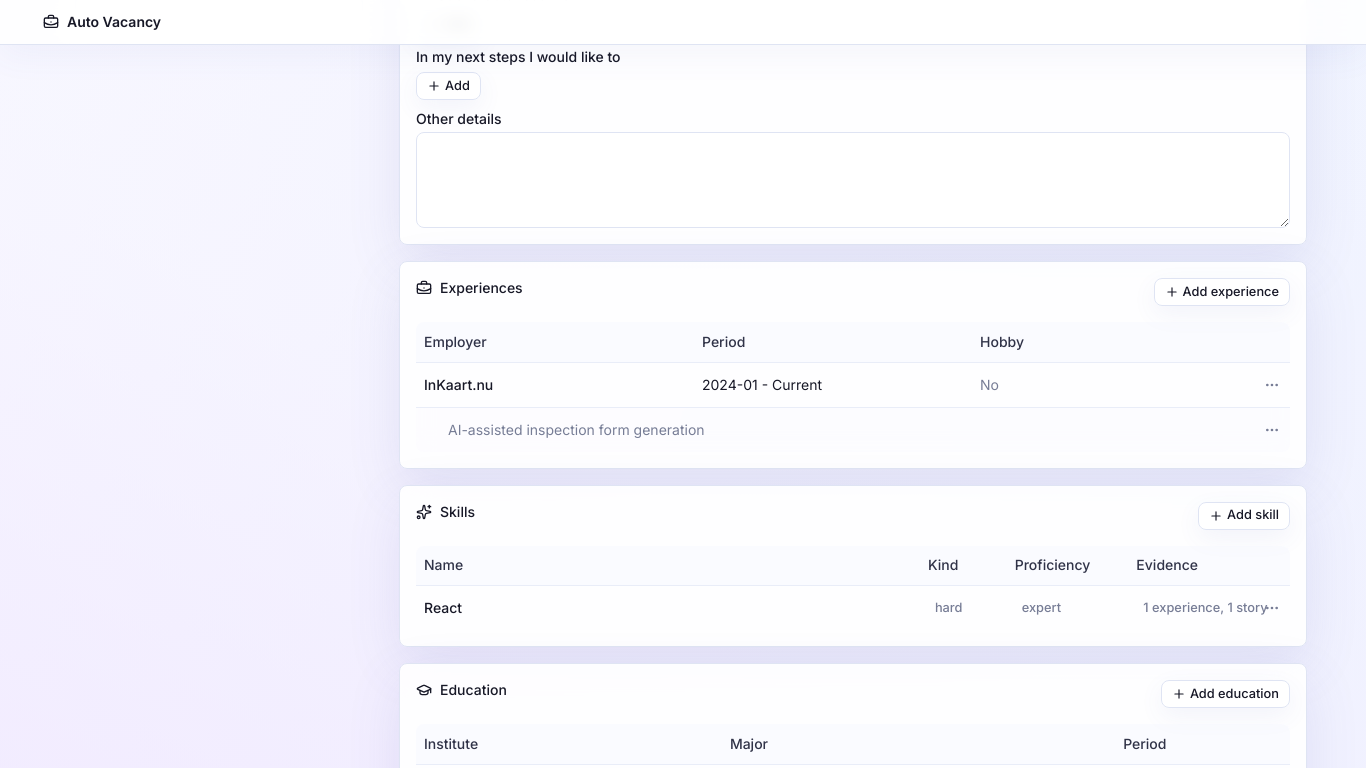
Scenario: ProfileApp › opens edit and add dialogs from experience actions
(page scrolled)
Click the button named "Experience actions" at (1272, 384), box [1258, 370, 1286, 398]
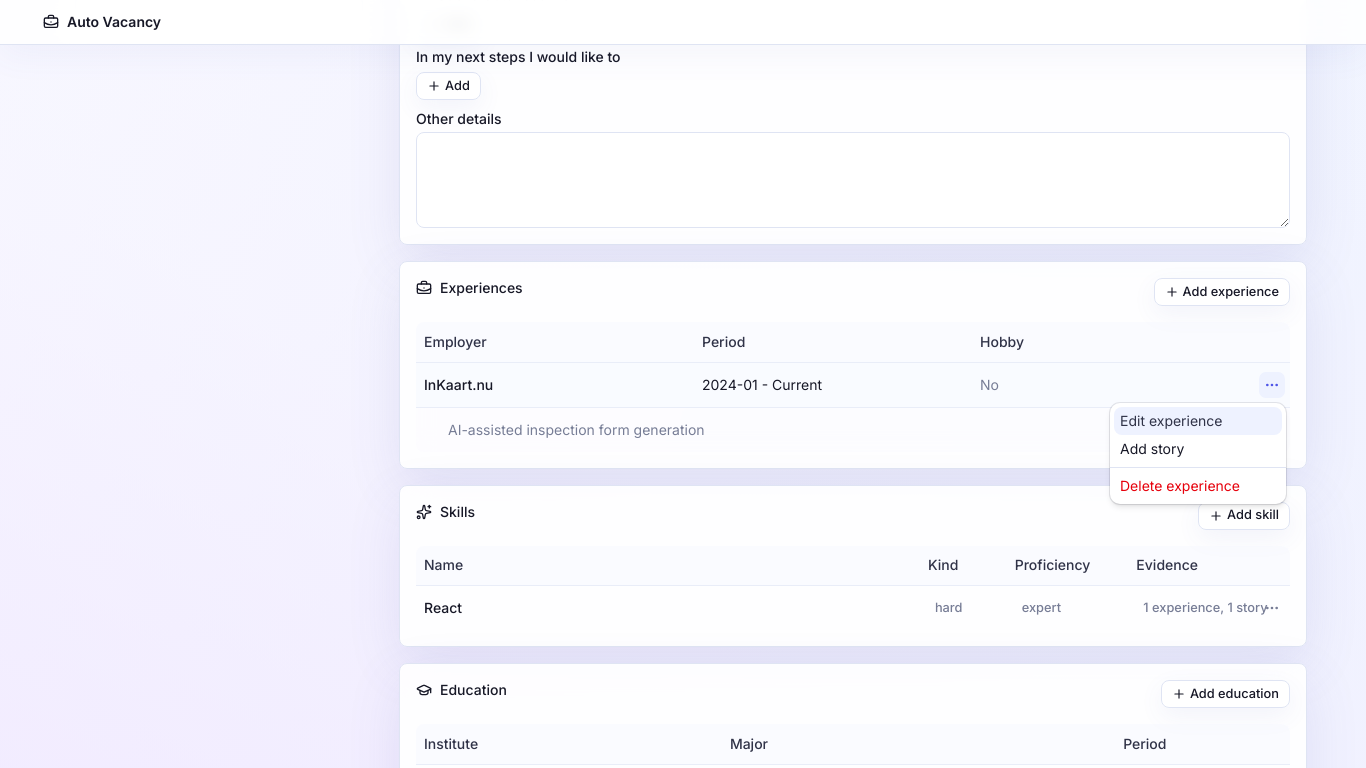
Click the menu item "Edit experience" at (1198, 421), box [1114, 407, 1282, 435]
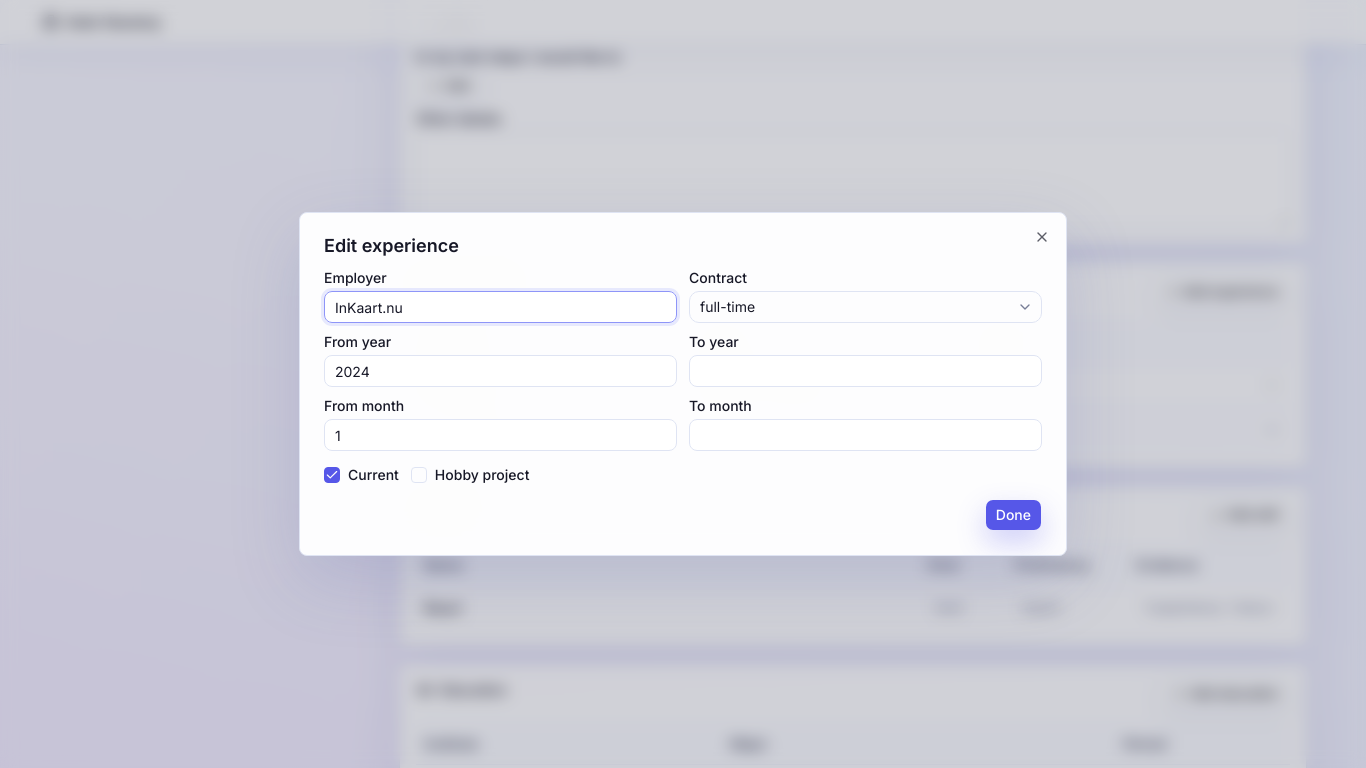
Expected: the heading "Edit experience" is shown, [324, 235, 459, 256]
Click the button "Done" at (1013, 515), box [985, 499, 1042, 531]
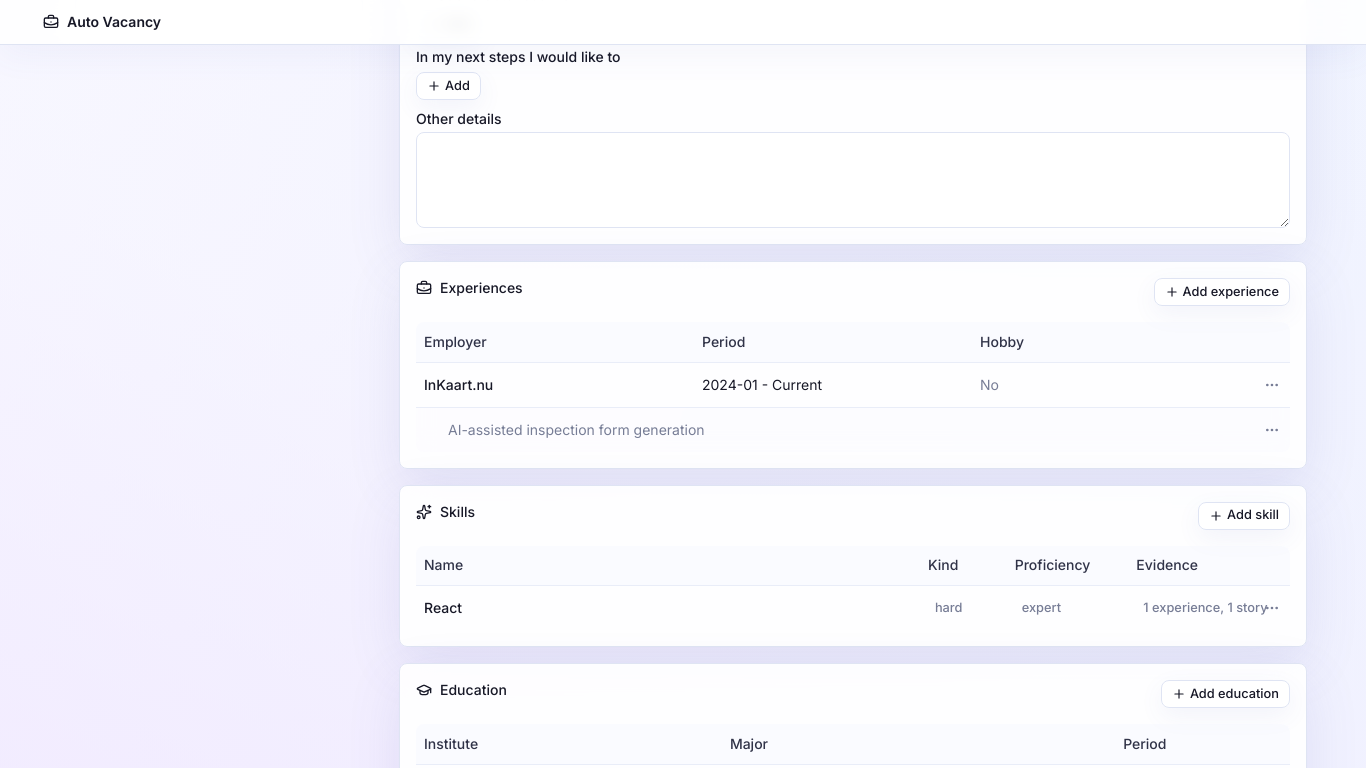
Expected: the heading "Edit experience" is gone
Click the button named "Experience actions" at (1272, 384), box [1258, 370, 1286, 398]
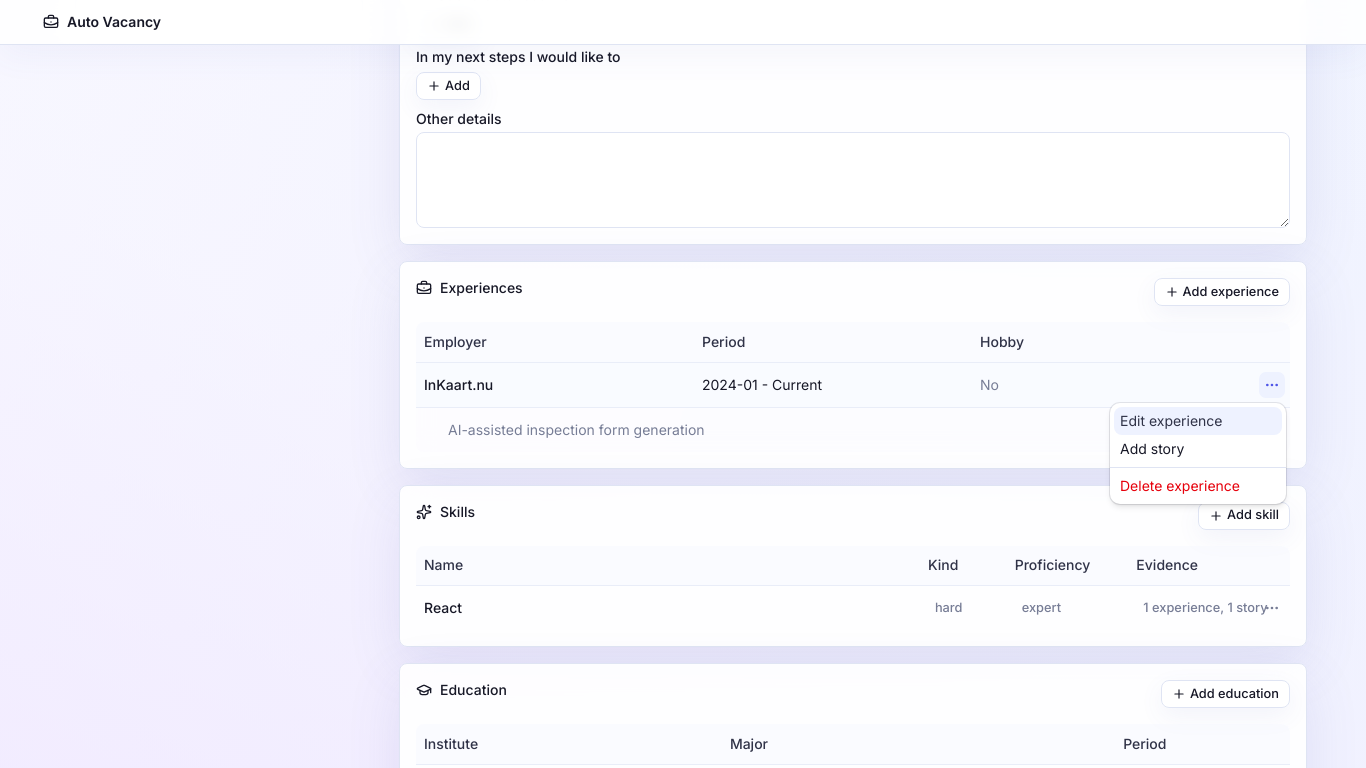
Click the menu item "Add story" at (1152, 448), box [1120, 440, 1184, 457]
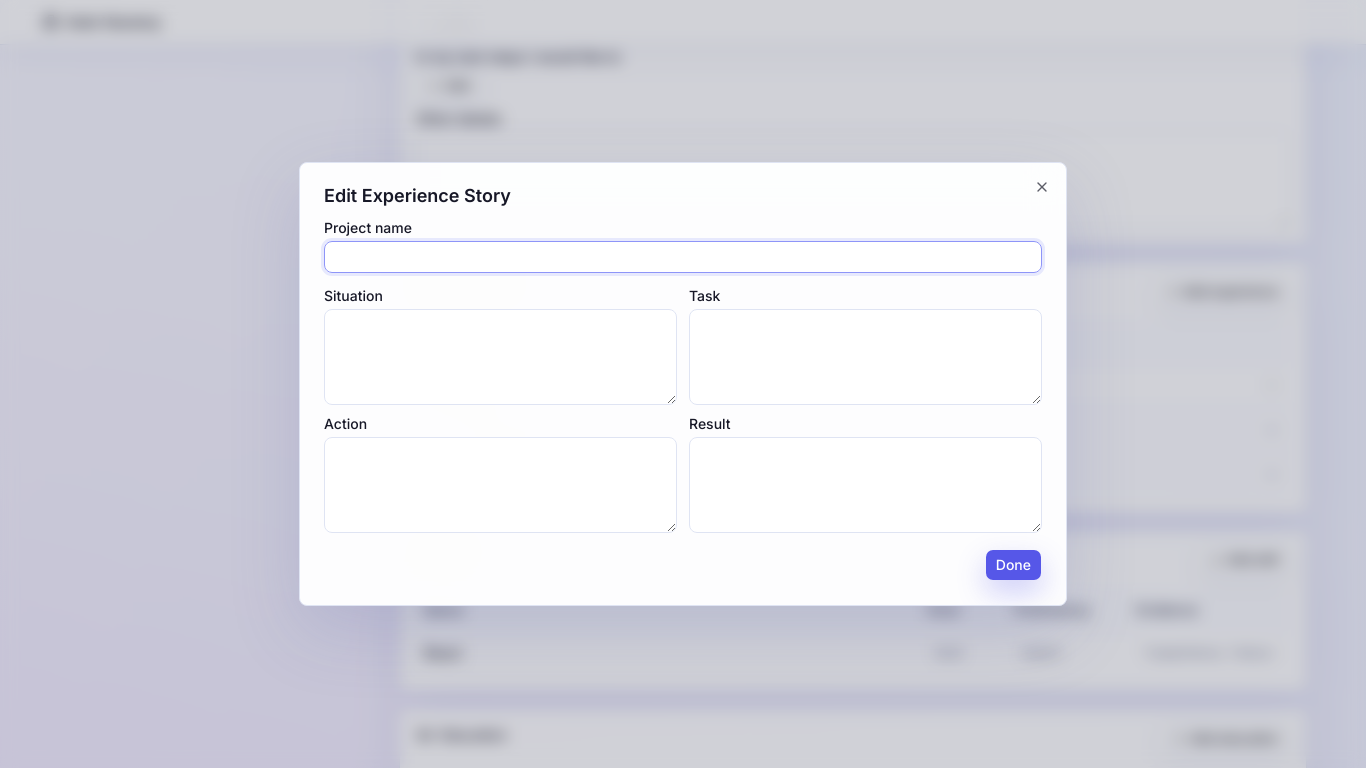
Expected: the heading "Edit Experience Story" is shown, [324, 185, 511, 206]
Expected: the text "Project name" is shown, [324, 219, 412, 236]
